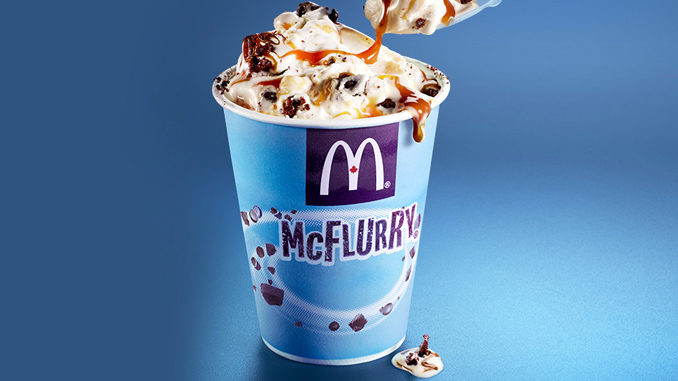mcdonalds: (312, 135, 389, 199)
